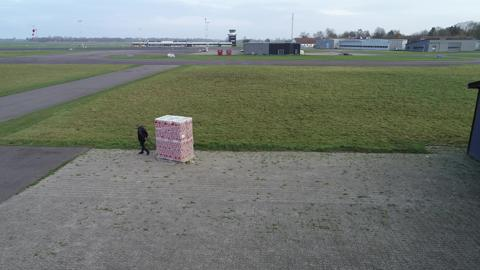RockwoolPallet: (155, 115, 195, 164)
